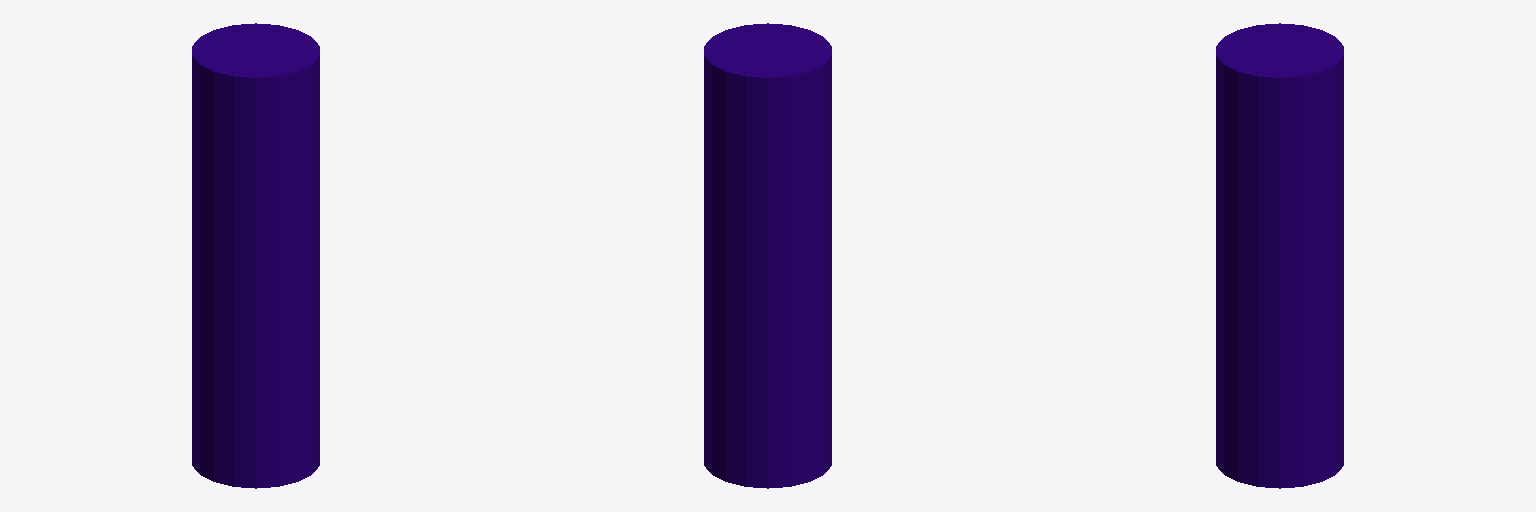
Rendered from Pepinillo.obj.
The picture shows the model from 3 angles: view 1: azimuth 30°, elevation 25°; view 2: azimuth 150°, elevation 25°; view 3: azimuth 270°, elevation 25°; orthographic projection.
Visible parts, largest first — view 1: Cylinder001; view 2: Cylinder001; view 3: Cylinder001.
Boxes of the visible parts, box(x1,y1,x2,y2) form: Cylinder001: box(192, 23, 319, 488); Cylinder001: box(704, 23, 831, 488); Cylinder001: box(1216, 23, 1343, 488).
Bounding box in the file's own units: 2 × 7 × 1.97.